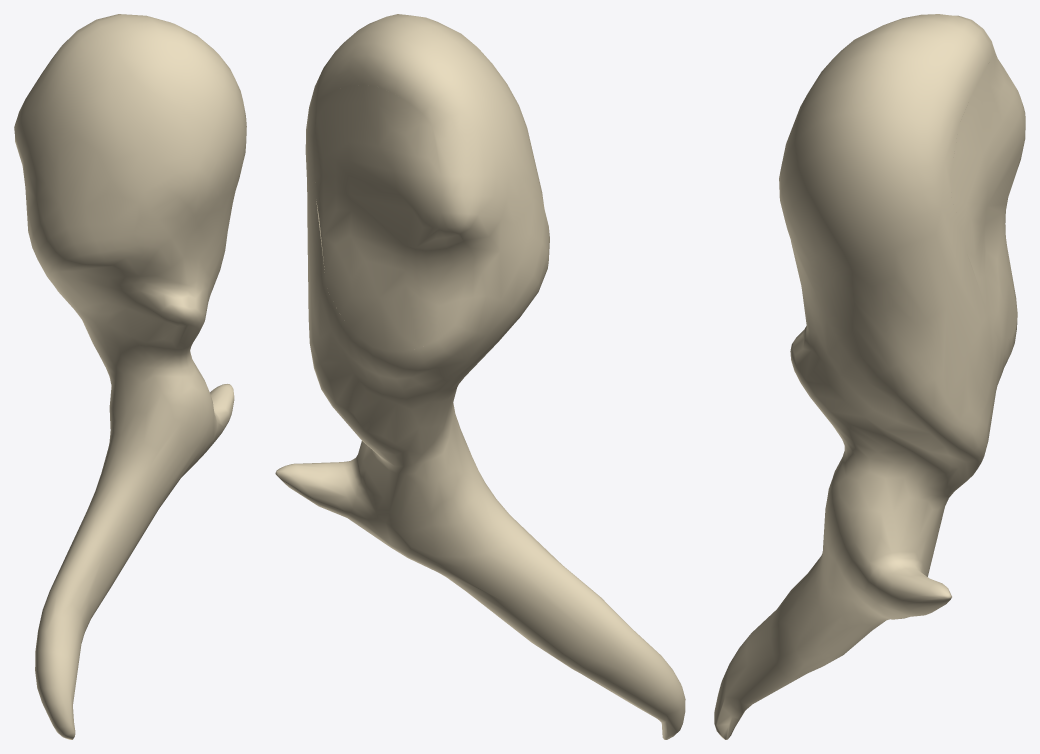
The model's file is esqueleto-malleus-l.glb.
The picture shows the model from 3 angles, left to right: view 1: azimuth 30°, elevation 25°; view 2: azimuth 150°, elevation 25°; view 3: azimuth 270°, elevation 25°; orthographic projection. The views are drawn at different scales.
Visible parts, largest first — view 1: Malleus.l; view 2: Malleus.l; view 3: Malleus.l.
Boxes of the visible parts, <box> form: Malleus.l: <box>14,14,246,739</box>; Malleus.l: <box>275,14,685,739</box>; Malleus.l: <box>714,14,1025,739</box>.
Size of the model in its own units: 0.00363 by 0.00818 by 0.00288.
